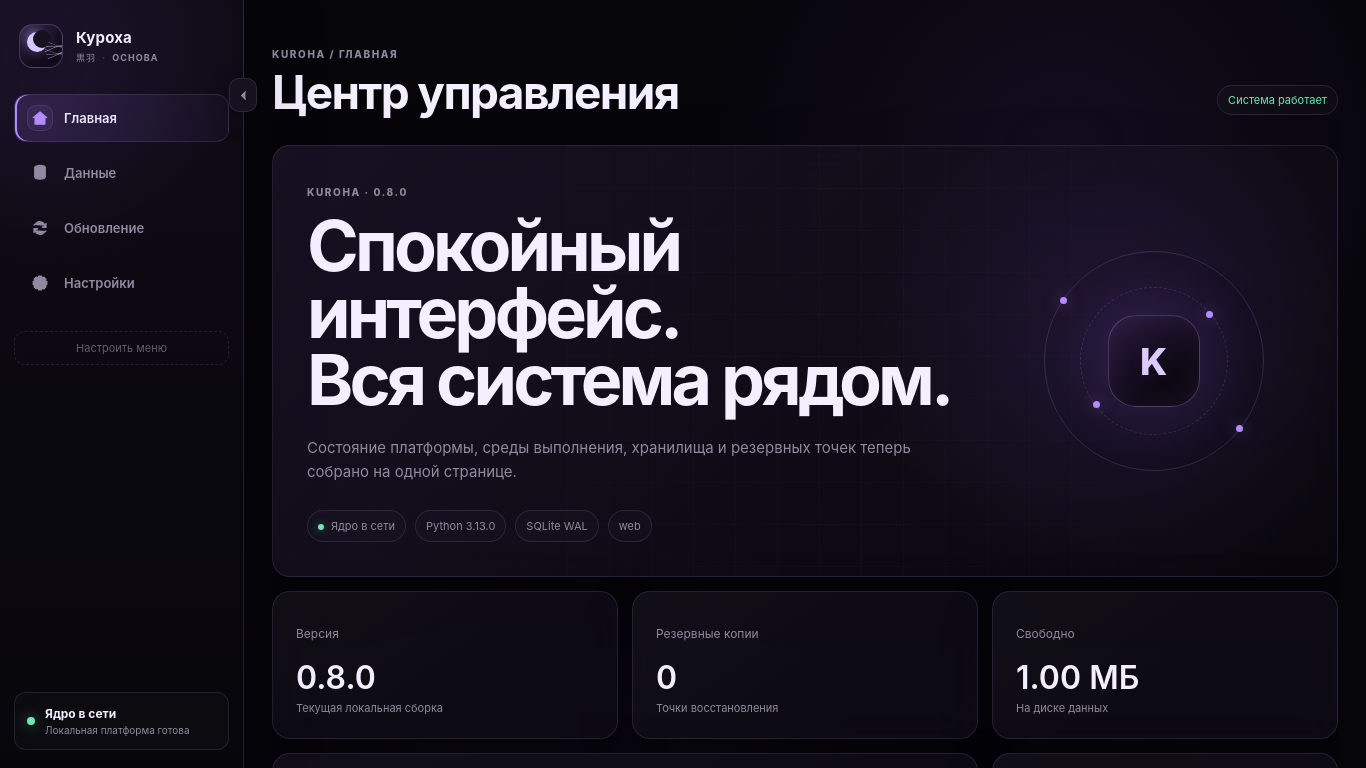
Test: App › opens the update module from navigation
Expected: the text "Куроха" is shown, [76,28,132,47]
Click the link "Обновление": (88, 228) [31,219,144,237]
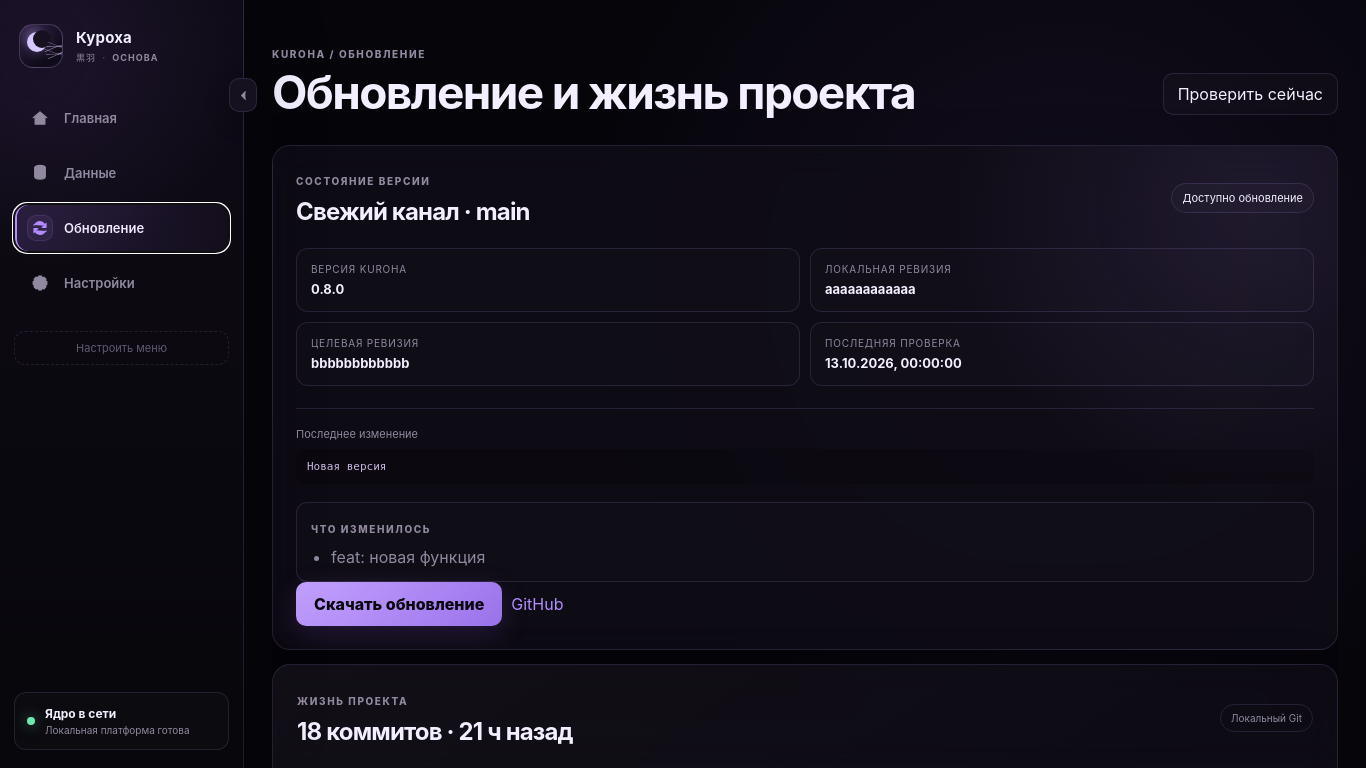
Now the text "Доступно обновление" is shown, box [1172,182,1314,212]
Now the text "ЖИЗНЬ ПРОЕКТА" is shown, box [297,695,408,707]
Now the heading "18 коммитов · 21 ч назад" is shown, box [297,717,572,746]
